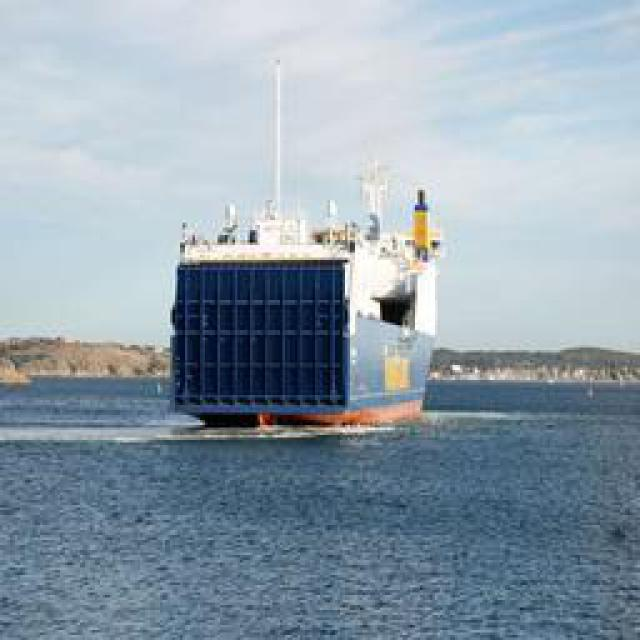Ship: (155, 40, 470, 442)
